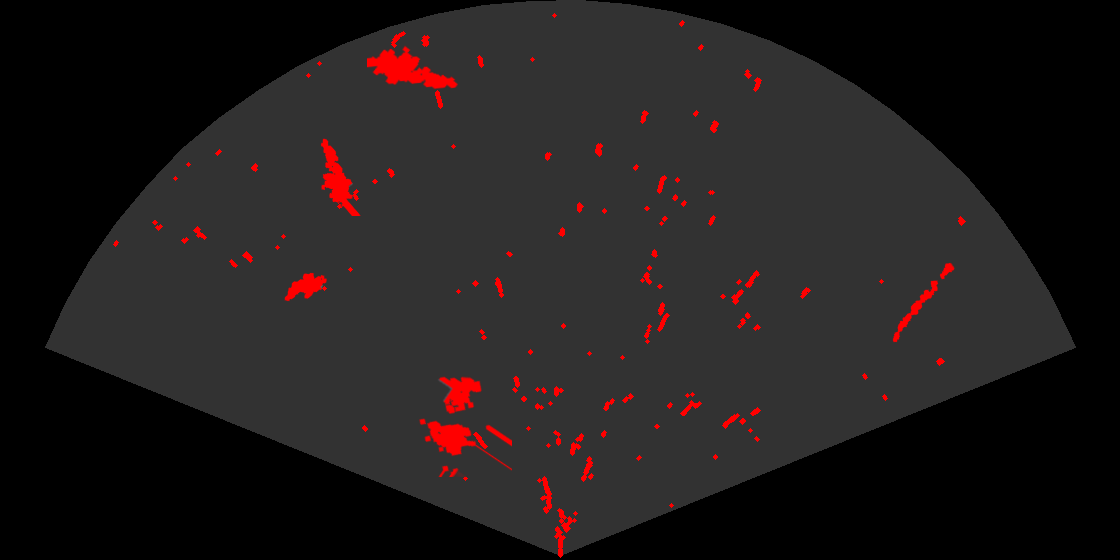AUV: (283, 271, 328, 303)
cage: (417, 375, 512, 477)
chain: (891, 261, 956, 344)
frogman: (367, 44, 460, 91), (319, 137, 362, 216)
